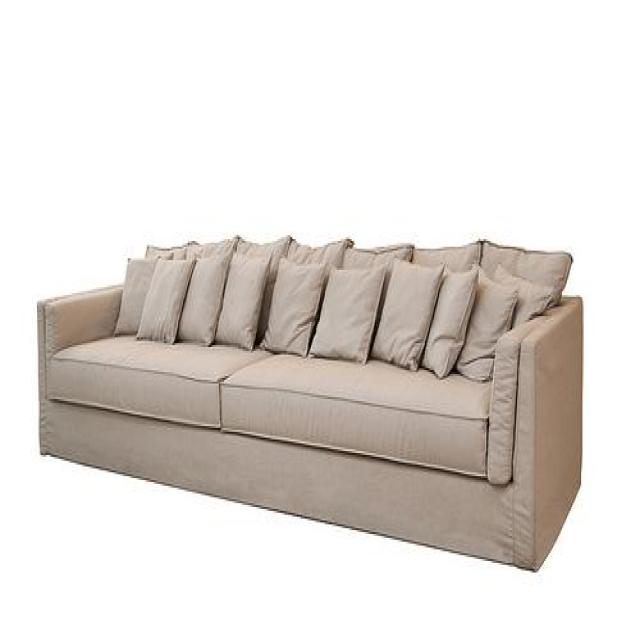sofa: (36, 232, 584, 572)
